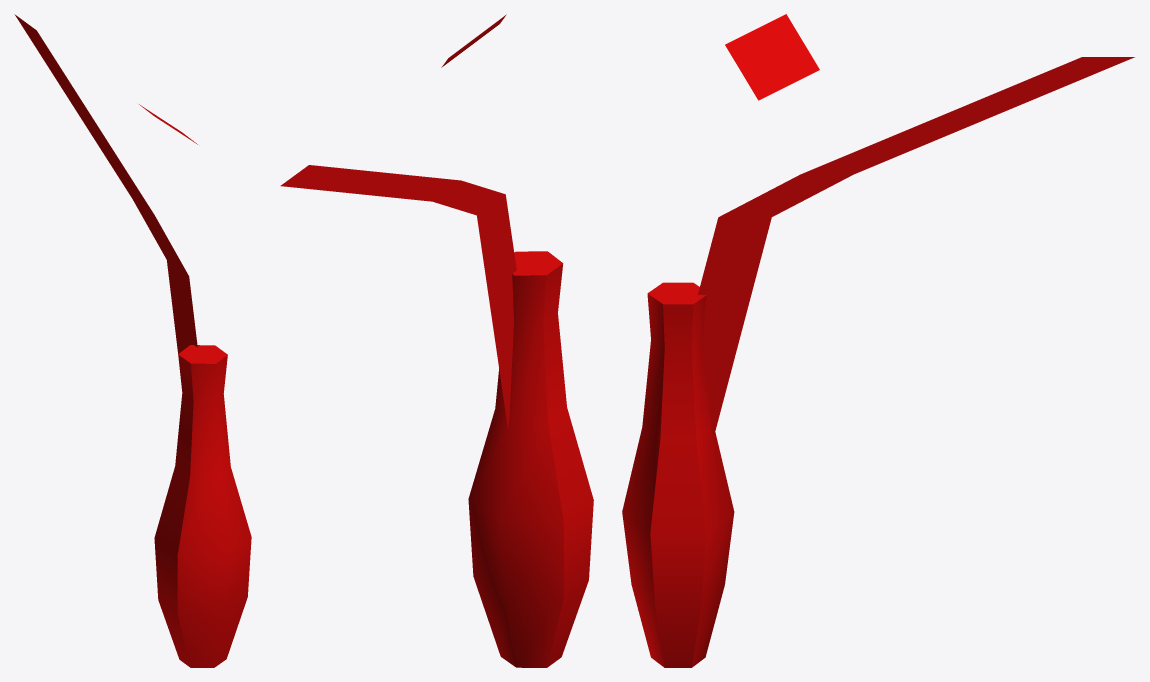
File: blomst_FBX.fbx
3 renders of one model, left to right at view 1: azimuth 30°, elevation 25°; view 2: azimuth 150°, elevation 25°; view 3: azimuth 270°, elevation 25°, orthographic. The views are drawn at different scales.
Parts seen in each view (by area): view 1: polySurface1; view 2: polySurface1; view 3: polySurface1.
Boxes of the visible parts, bbox=[...] form: polySurface1: bbox=[14, 14, 251, 667]; polySurface1: bbox=[280, 14, 593, 667]; polySurface1: bbox=[622, 14, 1134, 667].
Size of the model in its own units: 0.1508 by 1.03 by 0.7607.
